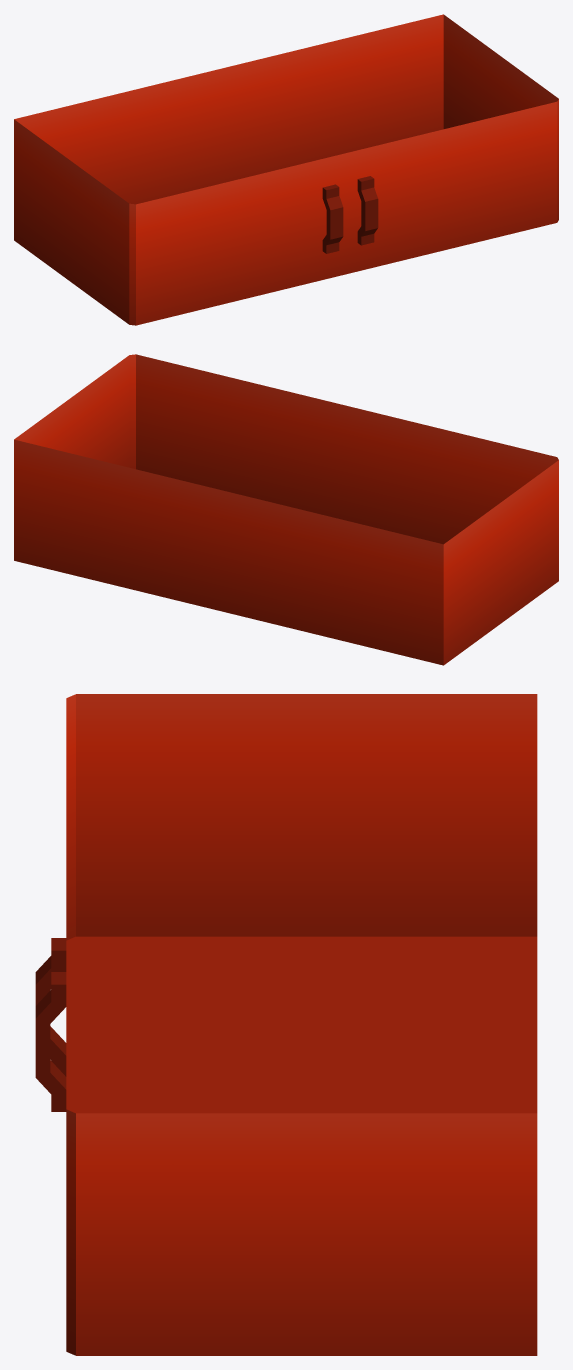
The model's file is Counter_01_v05_D_C04.fbx.
3 views of the same model, one above another, from view 1: azimuth 30°, elevation 25°; view 2: azimuth 150°, elevation 25°; view 3: azimuth 270°, elevation 25° (orthographic). The views are drawn at different scales.
Visible parts, largest first — view 1: Counter_01_v05_D_C04; view 2: Counter_01_v05_D_C04; view 3: Counter_01_v05_D_C04.
Part boxes in pixels (box(x1,y1,x2,y2)): Counter_01_v05_D_C04: box(14, 14, 558, 325); Counter_01_v05_D_C04: box(14, 354, 558, 665); Counter_01_v05_D_C04: box(35, 694, 537, 1355).
Size of the model in its own units: 200 by 53.91 by 101.
